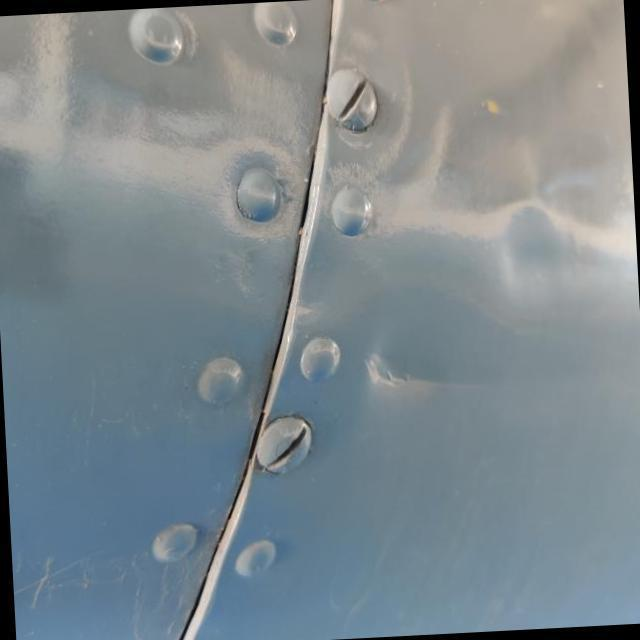Dent: (350, 328, 462, 425)
